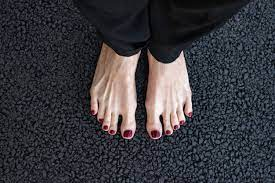Feet: (144, 45, 194, 140), (89, 45, 138, 140)
